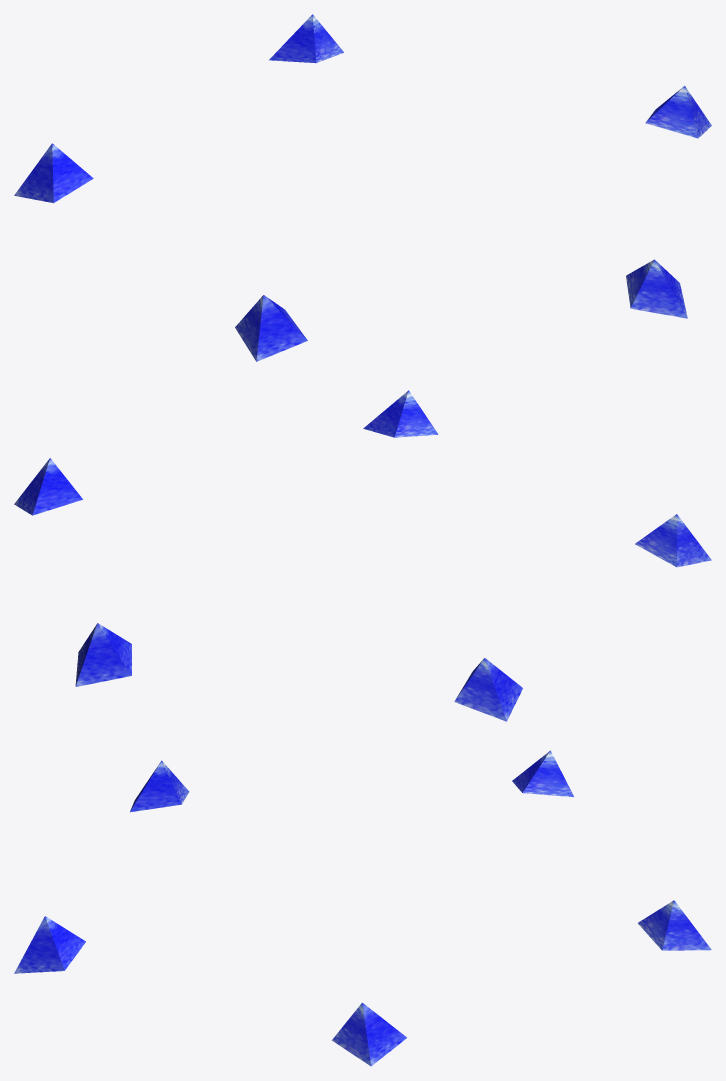
3 renders of one model, top to bottom at view 1: azimuth 30°, elevation 25°; view 2: azimuth 150°, elevation 25°; view 3: azimuth 270°, elevation 25°, orthographic. The views are drawn at different scales.
Size of the model in its own units: 0.1844 by 0.018 by 0.1943.
Materials: 1 (1 with a texture image).
